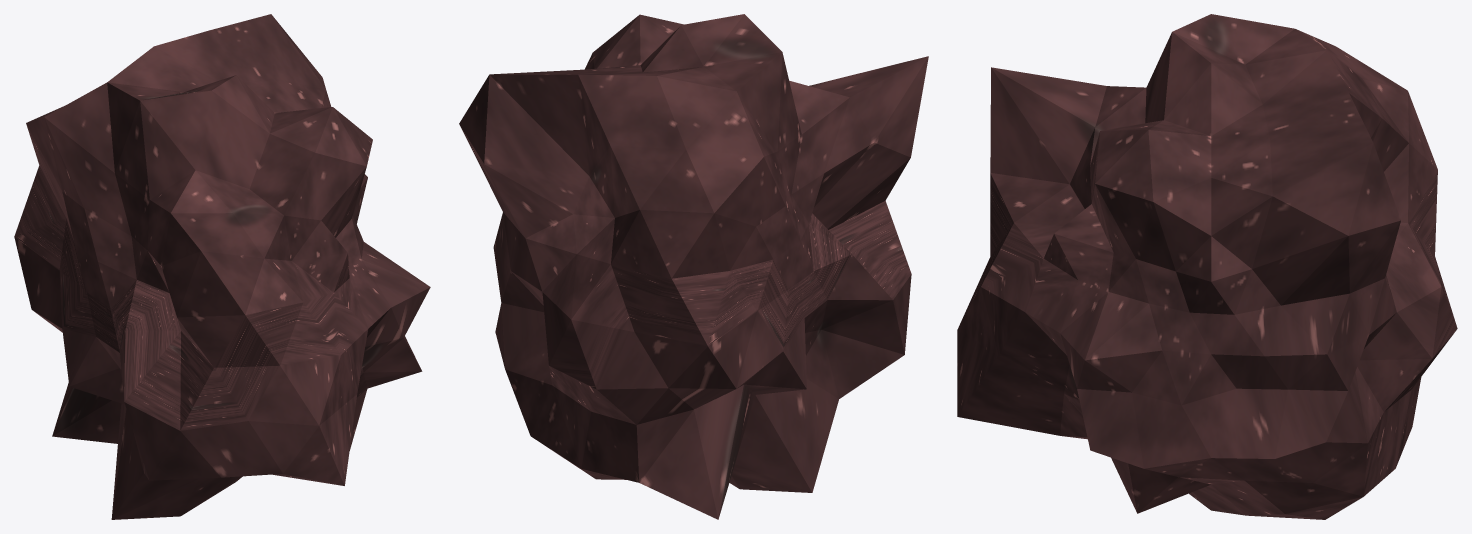
Rendered from planet_02_c.glb.
The picture shows the model from 3 angles, left to right: view 1: azimuth 30°, elevation 25°; view 2: azimuth 150°, elevation 25°; view 3: azimuth 270°, elevation 25°; orthographic projection. The views are drawn at different scales.
Visible parts, largest first — view 1: Body; view 2: Body; view 3: Body.
Boxes of the visible parts, x1,y1,x2,y2 form: Body: [14, 14, 430, 519]; Body: [459, 14, 928, 519]; Body: [957, 14, 1457, 519].
Size of the model in its own units: 1.2 by 1.64 by 1.55.
Materials: 1 (1 with a texture image).
